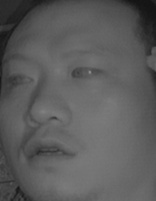eye: (70, 60, 104, 83), (4, 71, 36, 89)
mouth: (22, 134, 80, 169)
